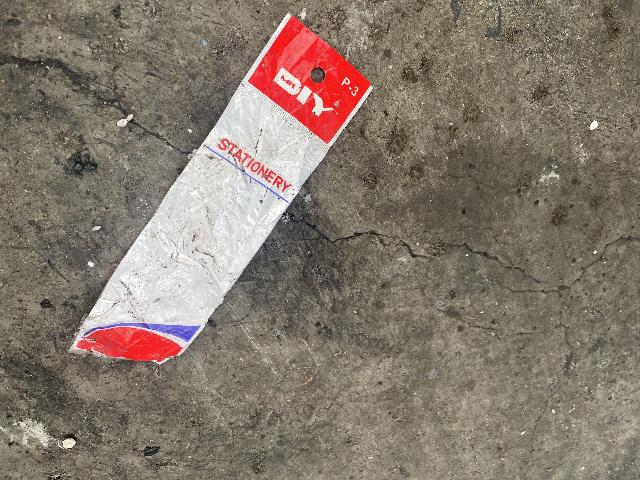Plastik: (62, 11, 375, 366)
